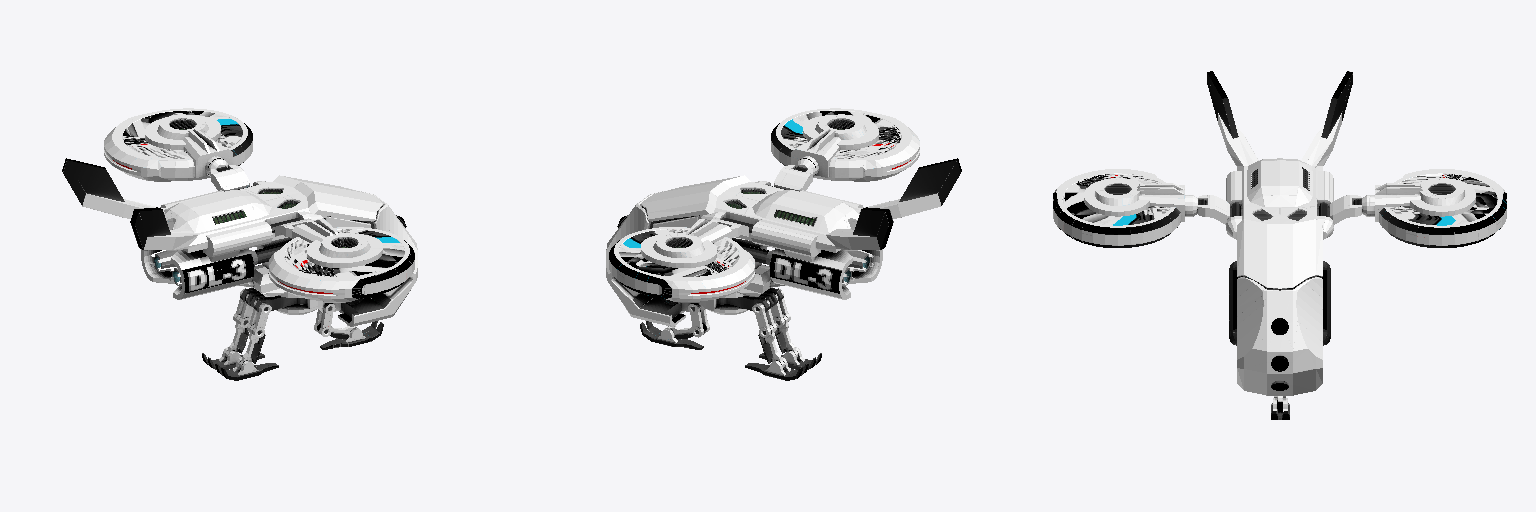
The picture shows the model from 3 angles: view 1: azimuth 30°, elevation 25°; view 2: azimuth 150°, elevation 25°; view 3: azimuth 270°, elevation 25°; orthographic projection.
Visible parts, largest first — view 1: DRON_DL_3_007_Cube_007, DRON_DL_3_001_Cube_000, DRON_DL_3_002_Cube_002, Cube_Cube_001, Cube_001_Cube_023, DRON_DL_3_005_Cube_005, DRON_DL_3_010_Cube_010, DRON_DL_3_012_Cube_012; view 2: DRON_DL_3_007_Cube_007, DRON_DL_3_002_Cube_002, DRON_DL_3_001_Cube_000, Cube_001_Cube_023, Cube_Cube_001, DRON_DL_3_006_Cube_006, DRON_DL_3_010_Cube_010, DRON_DL_3_011_Cube_011; view 3: DRON_DL_3_007_Cube_007, DRON_DL_3_002_Cube_002, DRON_DL_3_001_Cube_000, Cube_Cube_001, Cube_001_Cube_023, DRON_DL_3_005_Cube_005, DRON_DL_3_006_Cube_006.
Boxes of the visible parts, box(x1,y1,x2,y2) form: DRON_DL_3_007_Cube_007: box(62, 158, 417, 326); DRON_DL_3_001_Cube_000: box(269, 219, 414, 301); DRON_DL_3_002_Cube_002: box(104, 108, 252, 181); Cube_Cube_001: box(285, 229, 404, 276); Cube_001_Cube_023: box(123, 111, 242, 158); DRON_DL_3_005_Cube_005: box(211, 165, 255, 191); DRON_DL_3_010_Cube_010: box(320, 321, 383, 349); DRON_DL_3_012_Cube_012: box(215, 357, 278, 380); DRON_DL_3_007_Cube_007: box(606, 158, 961, 326); DRON_DL_3_002_Cube_002: box(609, 219, 754, 301); DRON_DL_3_001_Cube_000: box(771, 108, 919, 181); Cube_001_Cube_023: box(619, 229, 738, 276); Cube_Cube_001: box(781, 111, 900, 158); DRON_DL_3_006_Cube_006: box(768, 165, 812, 191); DRON_DL_3_010_Cube_010: box(640, 321, 703, 349); DRON_DL_3_011_Cube_011: box(745, 357, 808, 380); DRON_DL_3_007_Cube_007: box(1207, 71, 1352, 395); DRON_DL_3_002_Cube_002: box(1370, 169, 1506, 247); DRON_DL_3_001_Cube_000: box(1053, 169, 1189, 247); Cube_Cube_001: box(1062, 174, 1170, 225); Cube_001_Cube_023: box(1389, 174, 1497, 225); DRON_DL_3_005_Cube_005: box(1319, 195, 1361, 224); DRON_DL_3_006_Cube_006: box(1198, 195, 1240, 224).
Bounding box in the file's own units: 0.9454 × 0.619 × 1.17.
Materials: 1 (1 with a texture image).